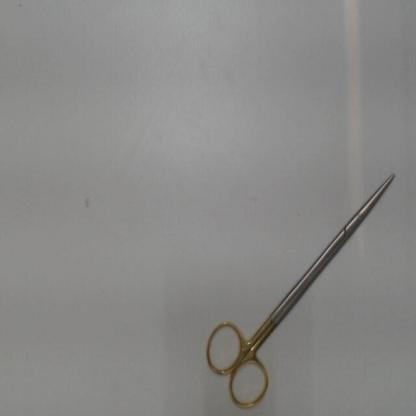7 Metzenbaum Scissors: (201, 169, 399, 413)
